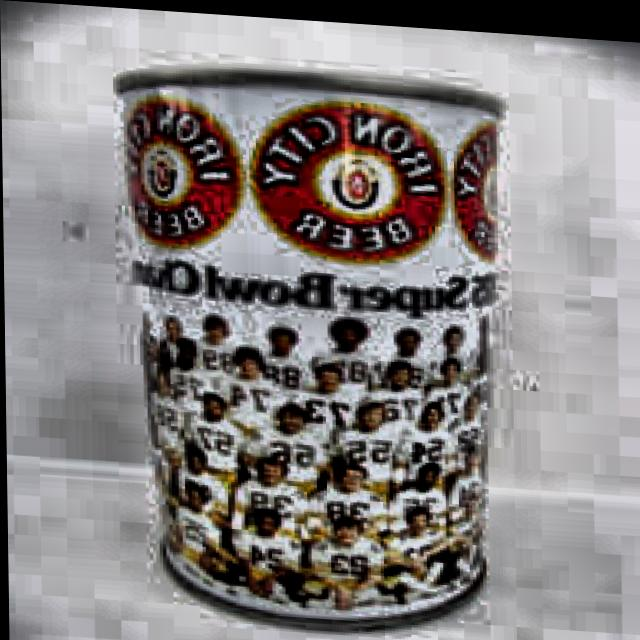can: (109, 52, 517, 640)
